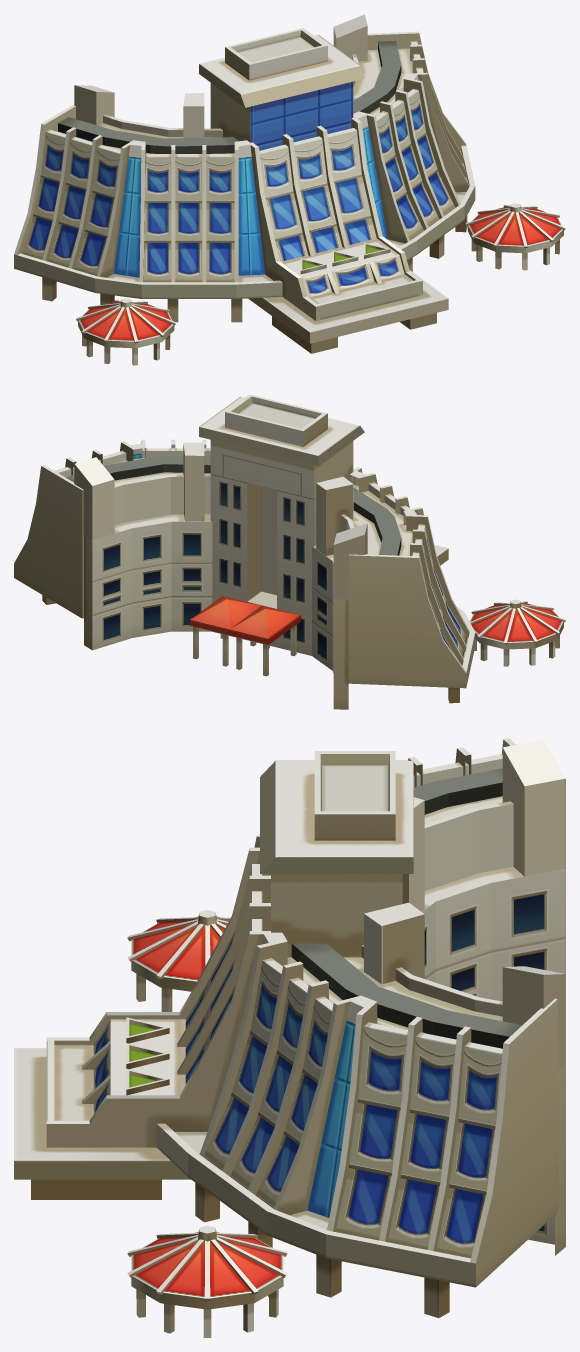
File: jiudian.FBX
3 views of the same model, one above another, from view 1: azimuth 30°, elevation 25°; view 2: azimuth 150°, elevation 25°; view 3: azimuth 270°, elevation 25° (orthographic). The views are drawn at different scales.
Parts seen in each view (by area): view 1: jiudian; view 2: jiudian; view 3: jiudian.
Part boxes in pixels (x1,y1,x2,y2): jiudian: (14, 14, 565, 365); jiudian: (14, 394, 565, 709); jiudian: (14, 738, 565, 1337).
Bounding box in the file's own units: 2396 × 1060 × 1447.
Materials: 1 (1 with a texture image).
